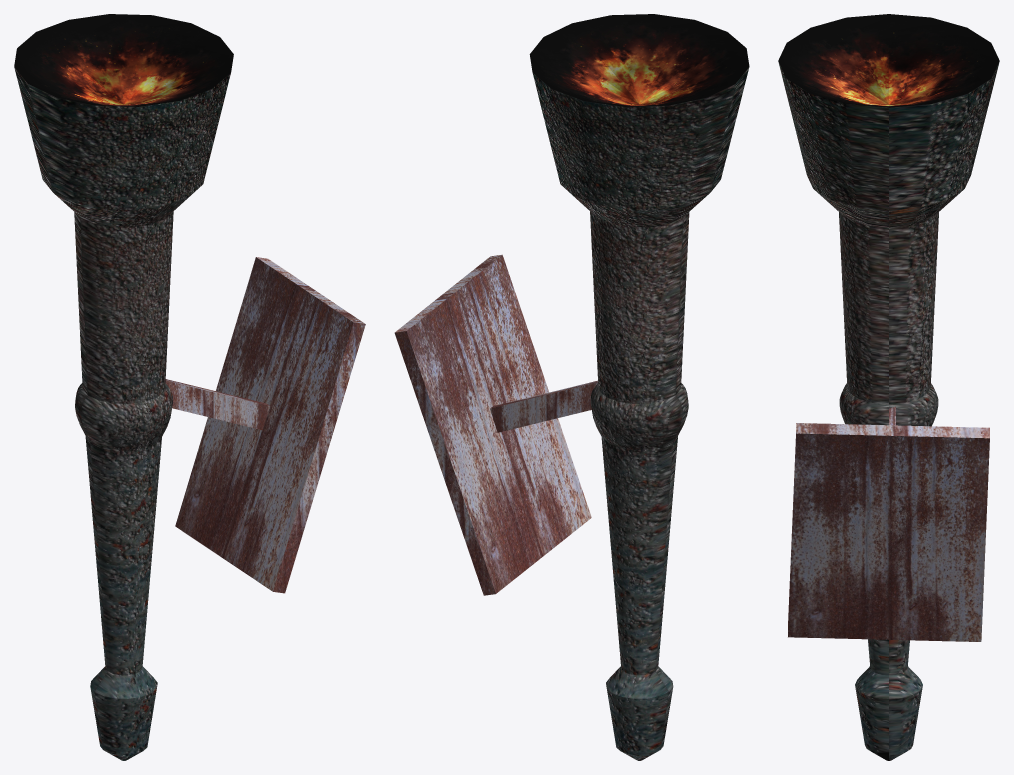
Rendered from tocha.FBX.
The picture shows the model from 3 angles, left to right: view 1: azimuth 30°, elevation 25°; view 2: azimuth 150°, elevation 25°; view 3: azimuth 270°, elevation 25°; orthographic projection.
Parts seen in each view (by area): view 1: ploy, Box001; view 2: ploy, Box001; view 3: ploy, Box001.
Part boxes in pixels (x1=…): ploy: x1=14, y1=14, x2=233, y2=760; Box001: x1=165, y1=257, x2=365, y2=593; ploy: x1=529, y1=14, x2=749, y2=760; Box001: x1=394, y1=254, x2=597, y2=595; ploy: x1=778, y1=14, x2=999, y2=760; Box001: x1=788, y1=406, x2=989, y2=641.
Size of the model in its own units: 22.24 by 51 by 14.65.
Materials: 2 (2 with a texture image).
